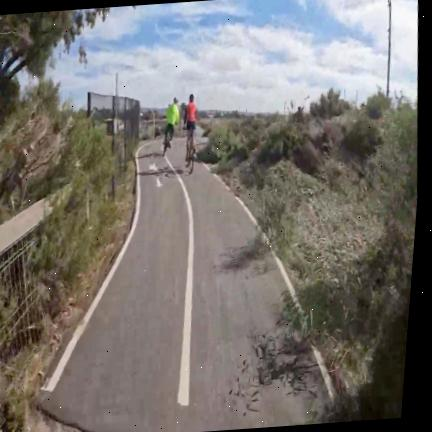Bike_Lane: (41, 137, 327, 432)
